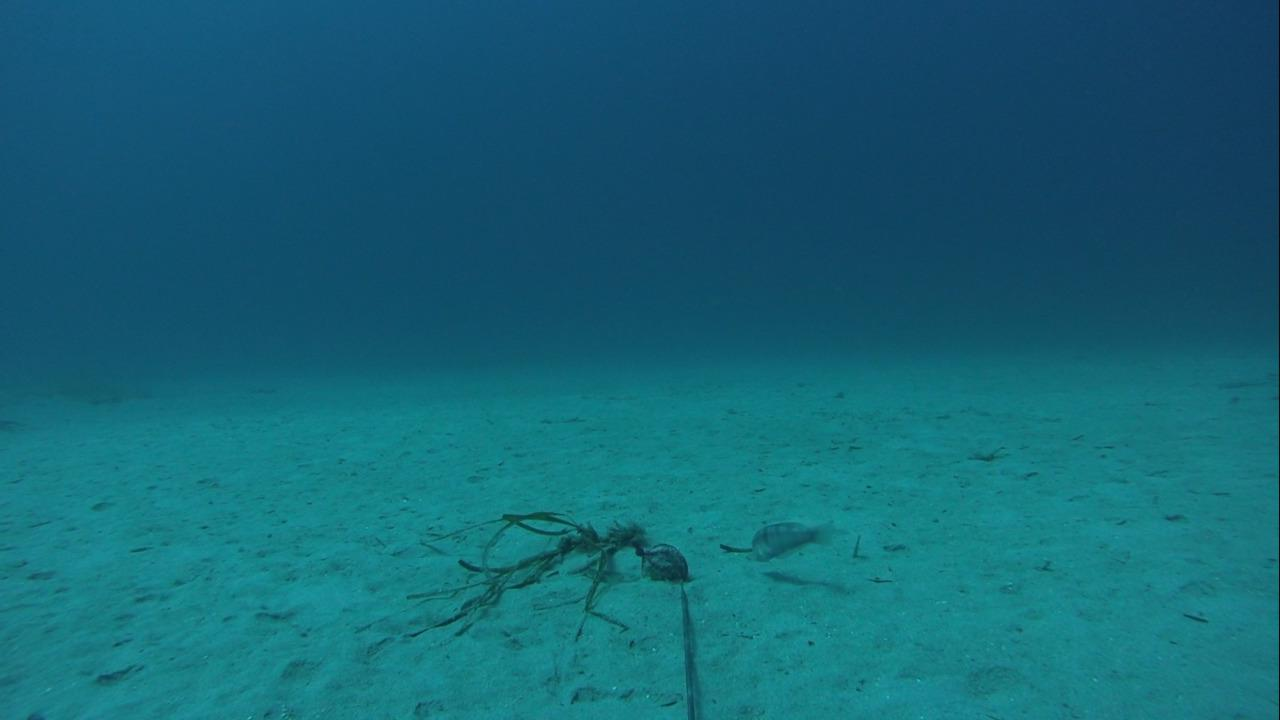raor: (745, 514, 839, 564)
